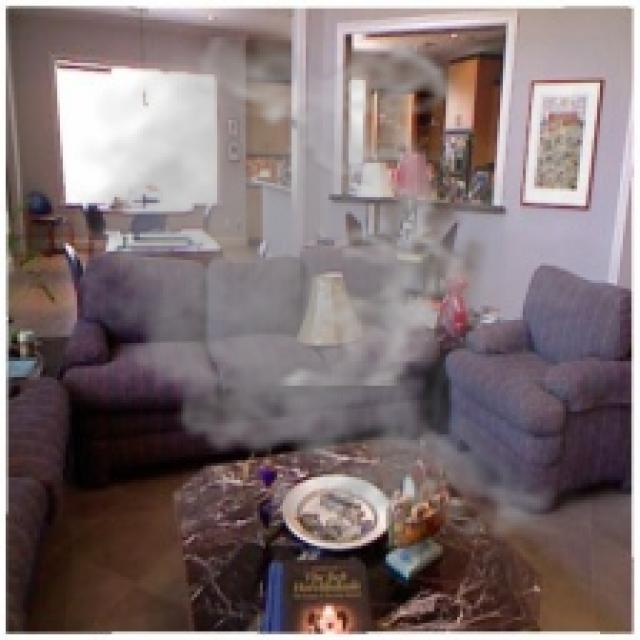Smoke: (51, 31, 620, 558)
